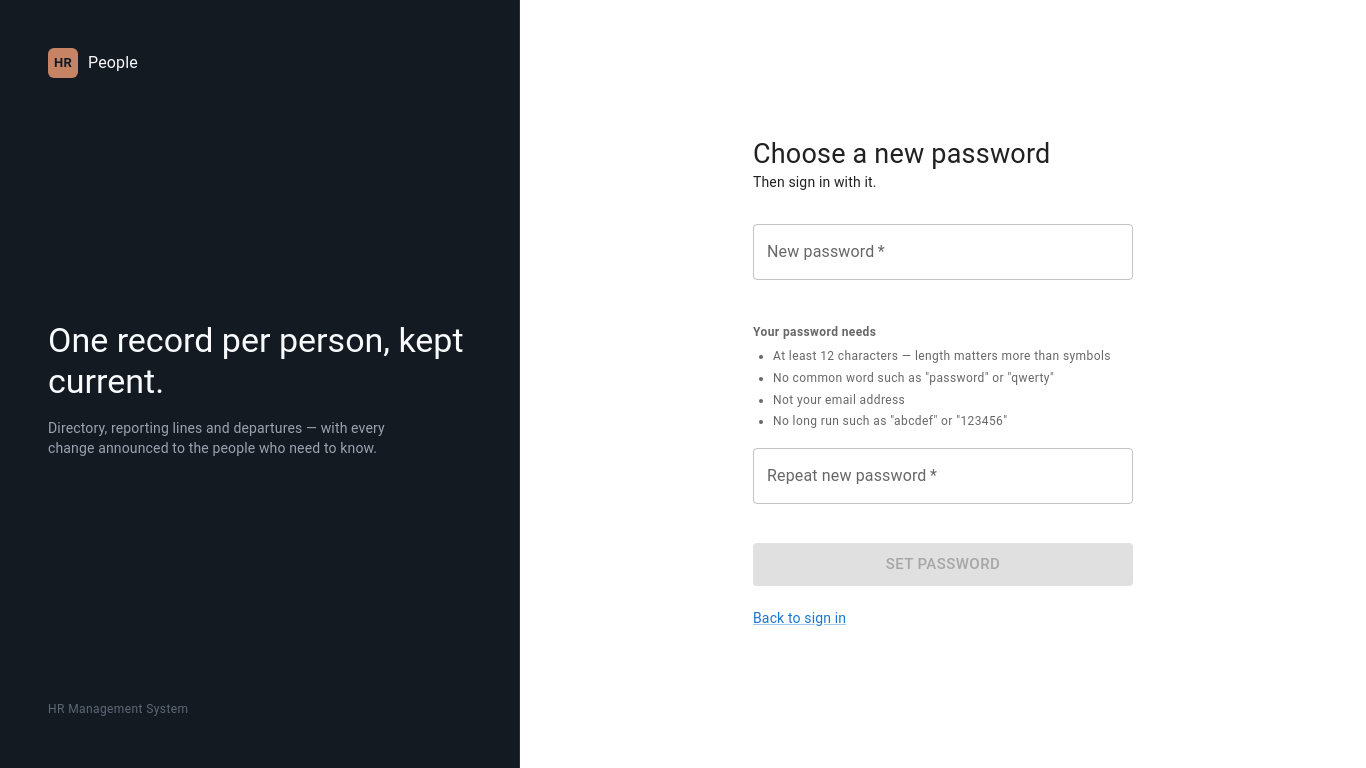
Scenario: ResetPasswordPage › shows the server refusal instead of pretending it worked
This screenshot has width=1366, height=768.
Type "a-long-enough-password" into the password field labelled "New password *".
click(943, 252); type("a-long-enough-password")  # box [753,224,1133,280]
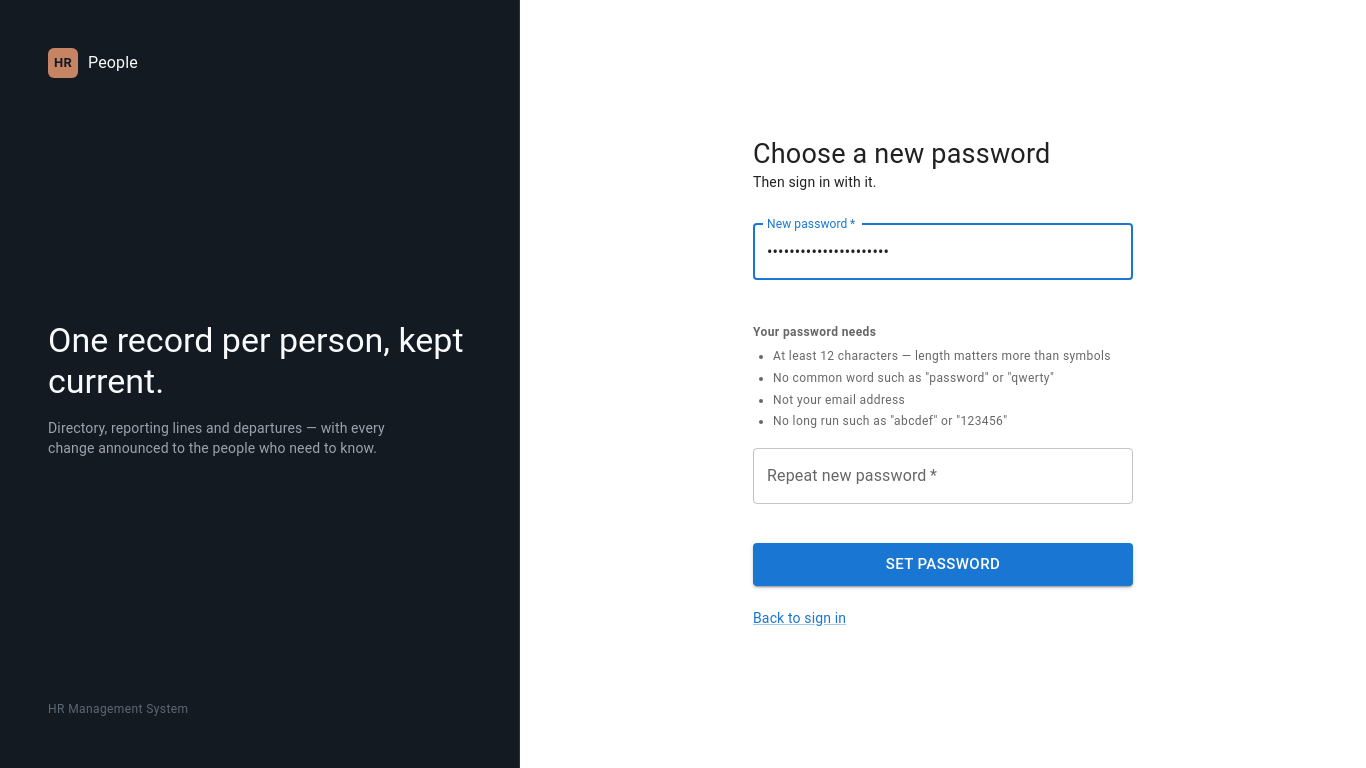
Type "a-long-enough-password" into the password field labelled "Repeat new password *".
click(943, 476); type("a-long-enough-password")  # box [753,448,1133,504]
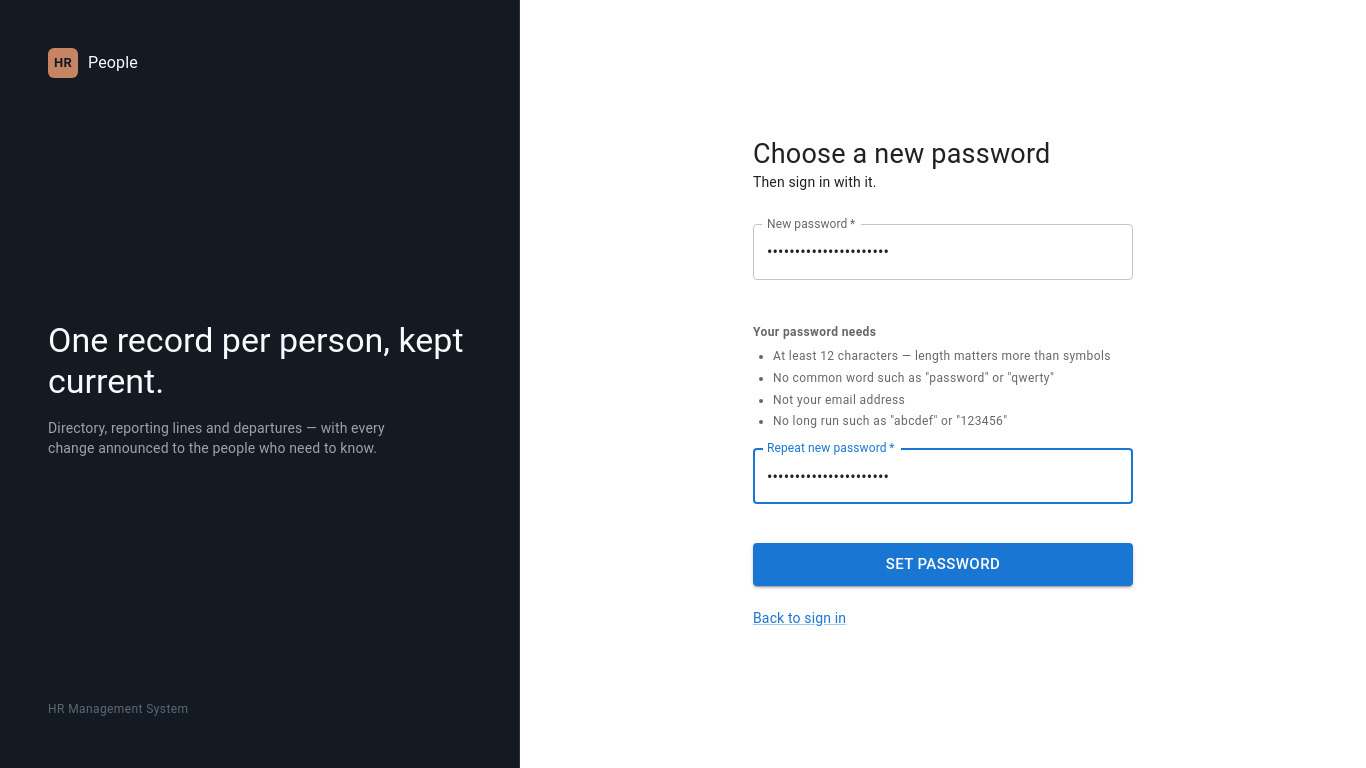
Click the button "Set password".
click(943, 564)  # box [753,543,1133,586]
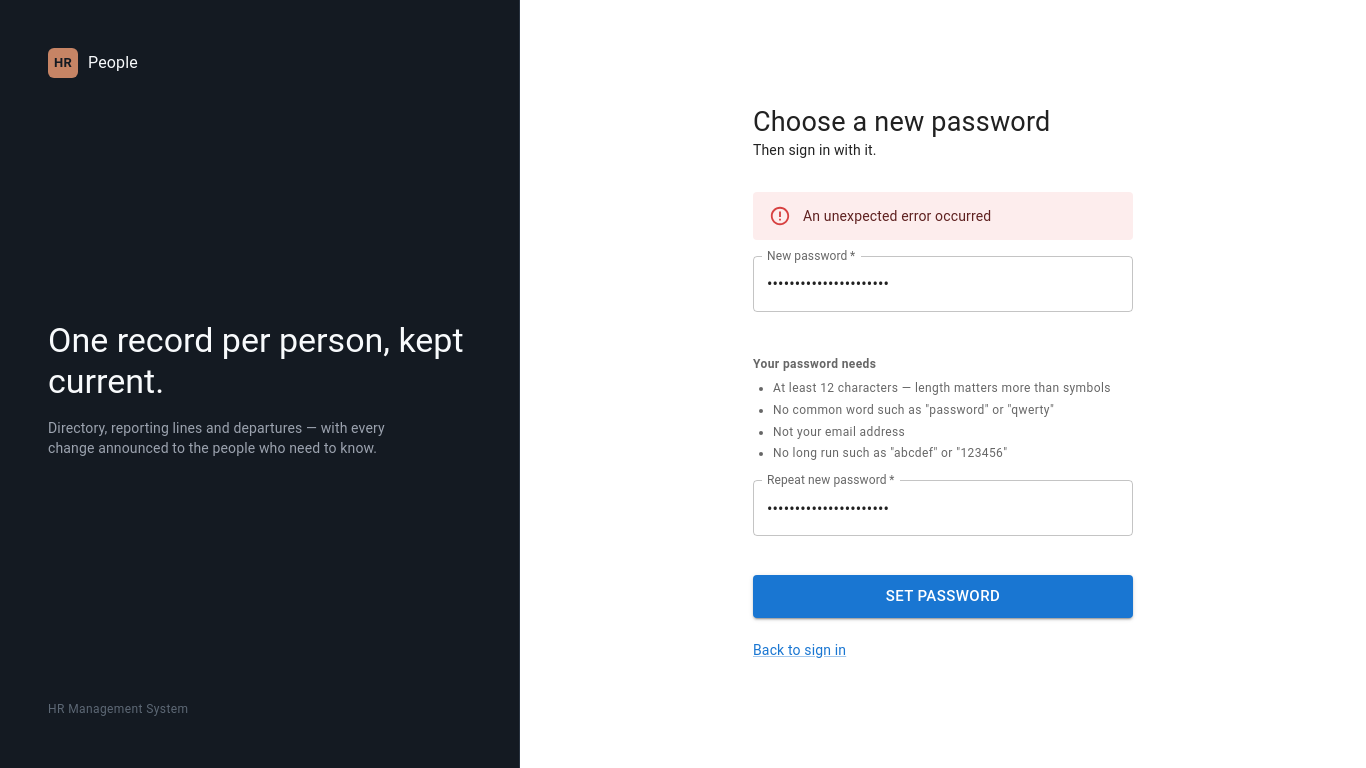
Expected: the message "An unexpected error occurred" is shown, [753,192,1133,240]
